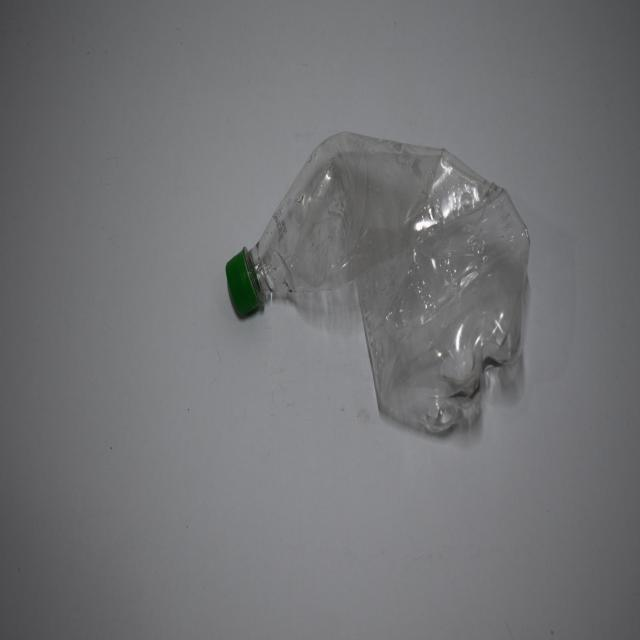bottle: (222, 119, 543, 459)
